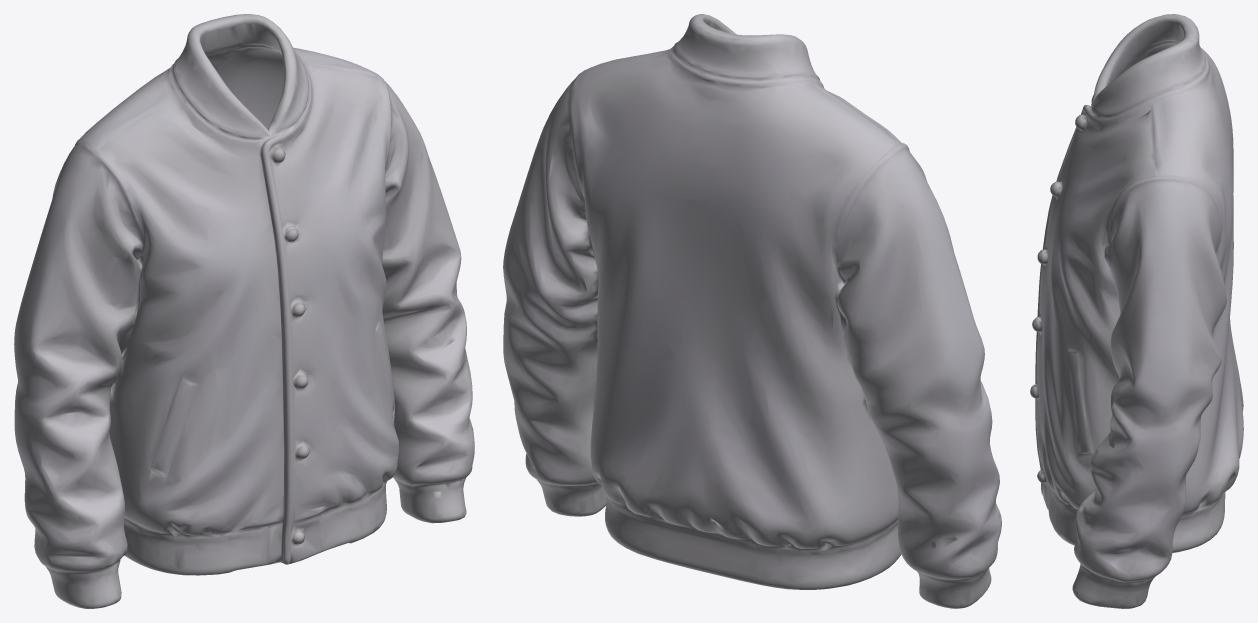
File: varsity-long.glb
3 views of the same model, side by side, from view 1: azimuth 30°, elevation 25°; view 2: azimuth 150°, elevation 25°; view 3: azimuth 270°, elevation 25° (orthographic). The views are drawn at different scales.
Visible parts, largest first — view 1: material; view 2: material; view 3: material.
Part boxes in pixels (x1=…): material: x1=14, y1=14, x2=474, y2=608; material: x1=503, y1=14, x2=1001, y2=608; material: x1=1030, y1=14, x2=1243, y2=608.
Size of the model in its own units: 0.8365 by 0.9359 by 0.3708.
Materials: 1 (1 with a texture image).
